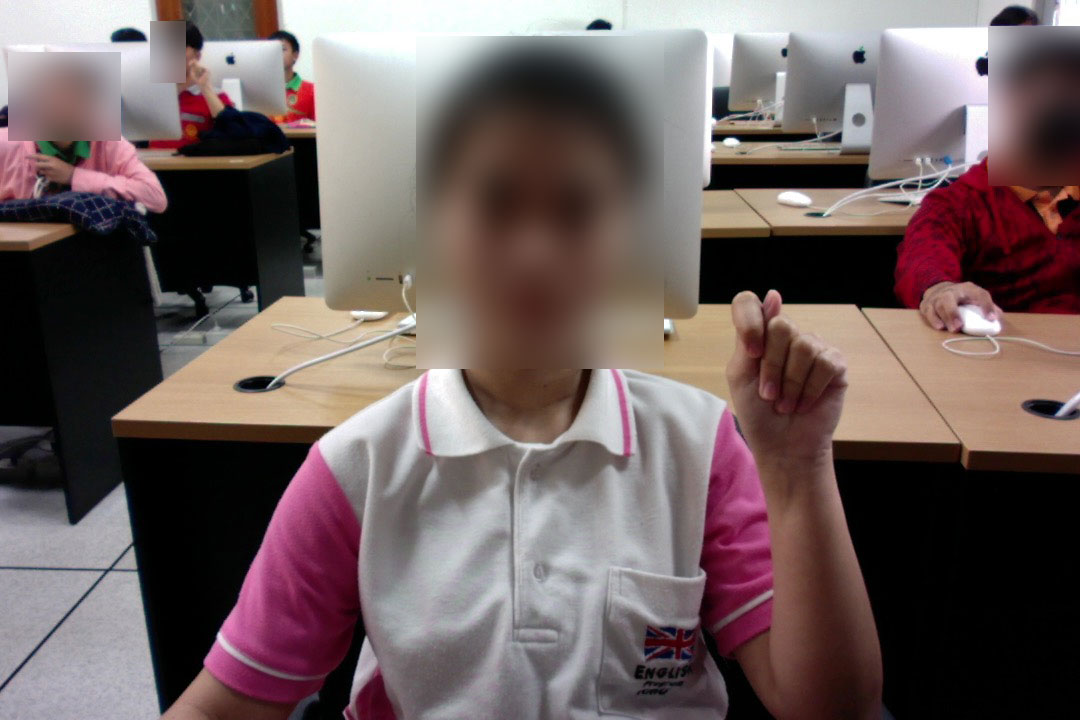tor: (718, 282, 855, 482)
